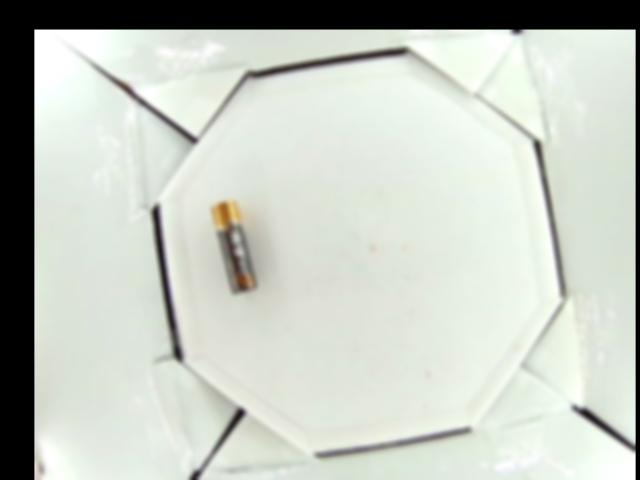Battery: (209, 201, 258, 295)
